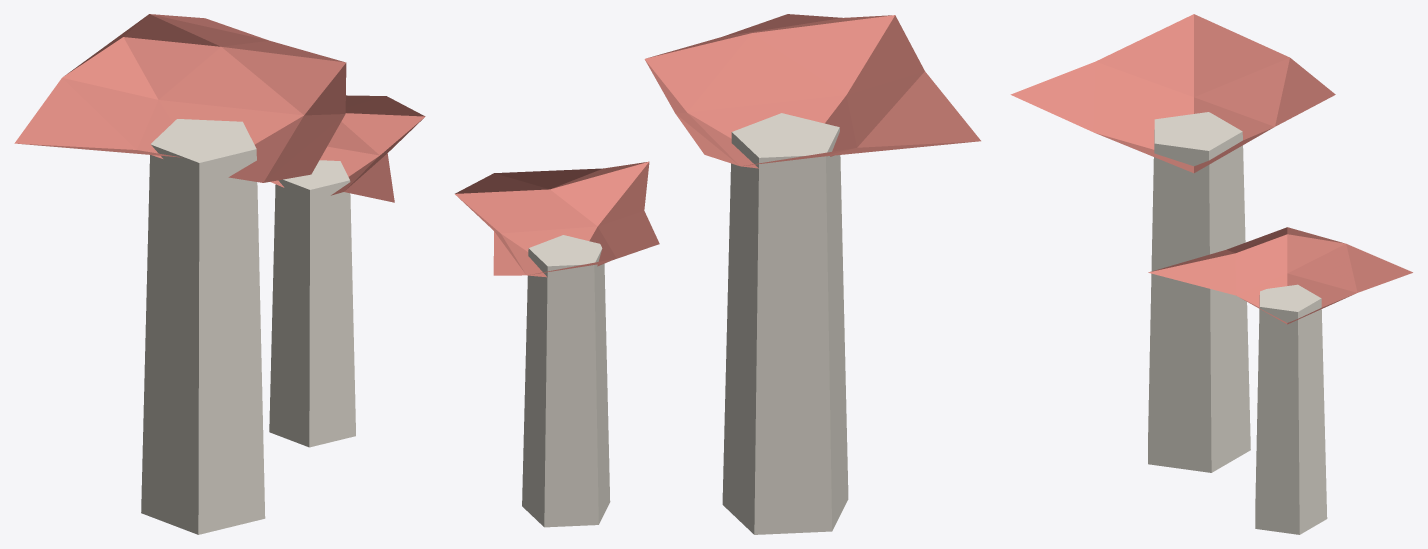
File: mushroom_v16.glb
The picture shows the model from 3 angles, left to right: view 1: azimuth 30°, elevation 25°; view 2: azimuth 150°, elevation 25°; view 3: azimuth 270°, elevation 25°; orthographic projection. The views are drawn at different scales.
Parts seen in each view (by area): view 1: lod0; view 2: lod0; view 3: lod0.
Part boxes in pixels (x1,y1,x2,y2): lod0: (14, 14, 425, 534); lod0: (455, 14, 980, 534); lod0: (1010, 14, 1412, 534).
Size of what is drawn, in the model's own units: 0.344 by 0.3456 by 0.2982.
